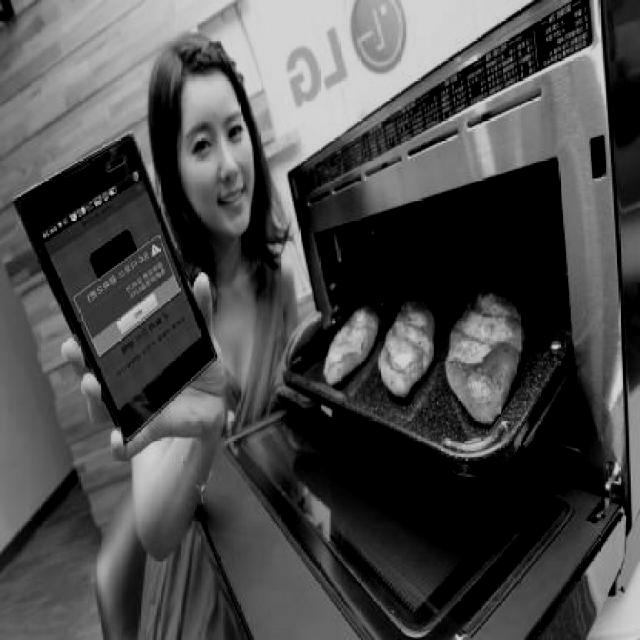fake: (14, 132, 218, 442)
